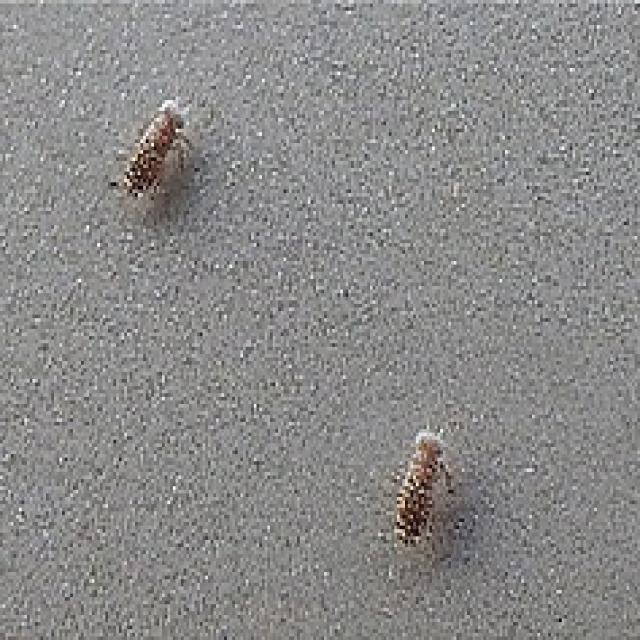Guepe: (388, 418, 464, 556), (119, 76, 196, 208)
